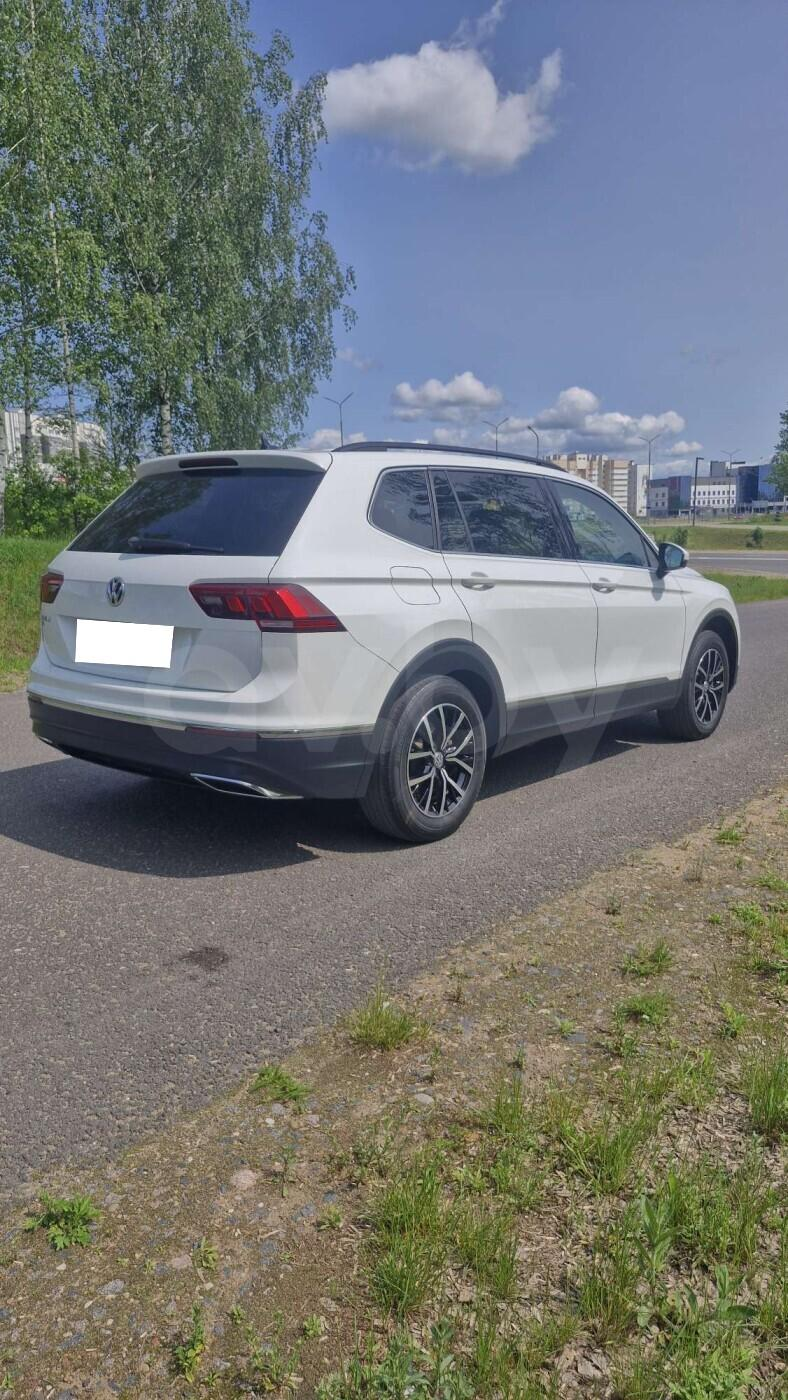Tiguan_2016-2021: (30, 442, 746, 844)
